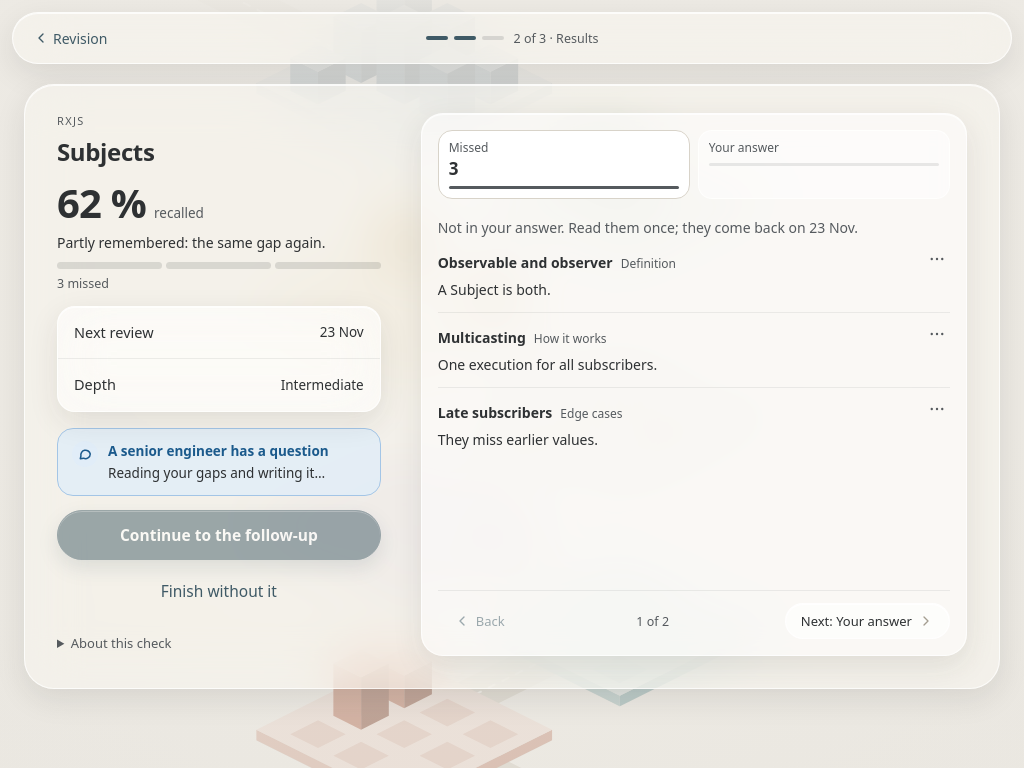
Test: recall page › leaves out screens with nothing in them: an answer that matched nothing shows what was missed and the answer itself
Click the button "Next: Your answer".
click(867, 621)  # box top-left (785, 603), bottom-right (950, 639)
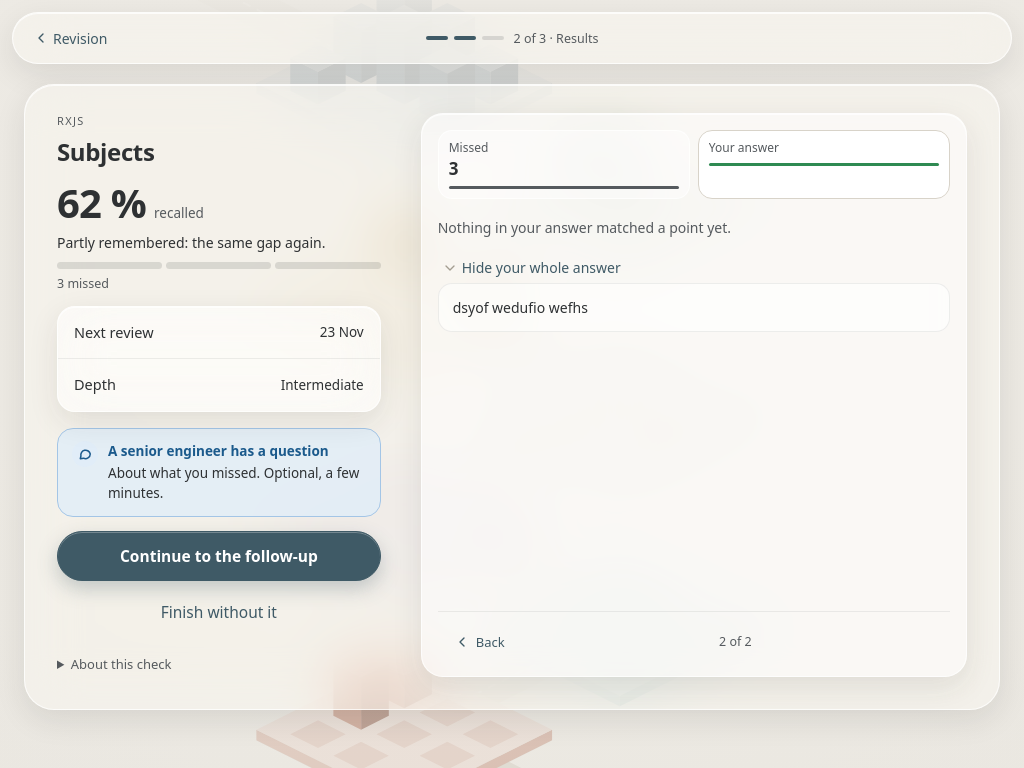
Expected: the text "Nothing in your answer matched a point yet." is shown, top-left (438, 218), bottom-right (731, 237)
Expected: the element named "Your whole answer" reads "dsyof wedufio wefhs", top-left (453, 298), bottom-right (588, 317)
